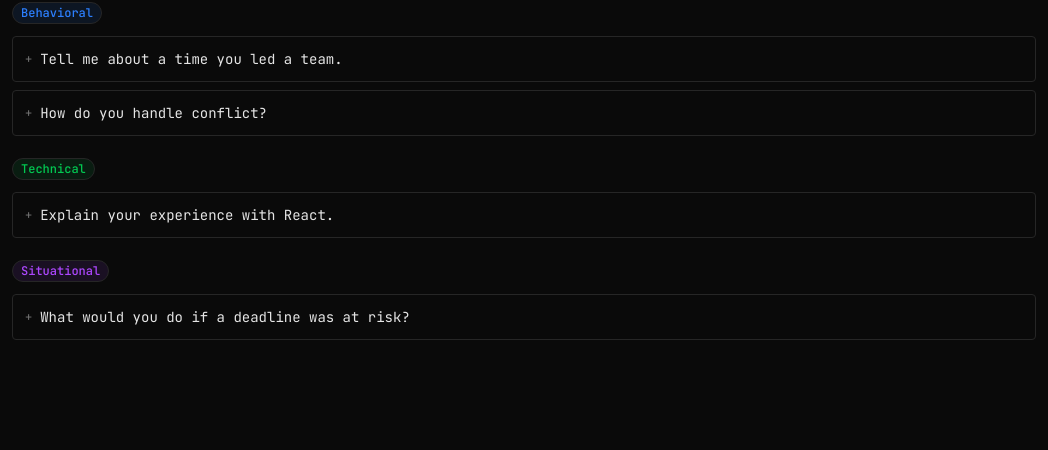
Scenario: InterviewPrepViewer › shows STAR hint and answer on expand
This screenshot has width=1048, height=450.
Click the text "Tell me about a time you led a team.". click: (191, 59)
box: top-left (40, 49), bottom-right (343, 69)
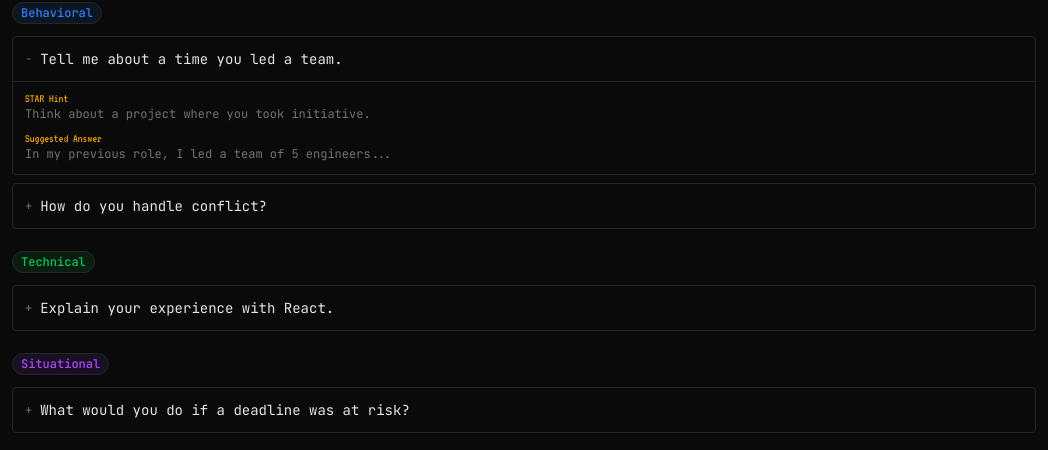
expect the text "STAR Hint" is shown: met, box top-left (25, 92), bottom-right (68, 104)
expect the text "Think about a project where you took initiative." is shown: met, box top-left (25, 106), bottom-right (371, 122)
expect the text "Suggested Answer" is shown: met, box top-left (25, 132), bottom-right (102, 144)
